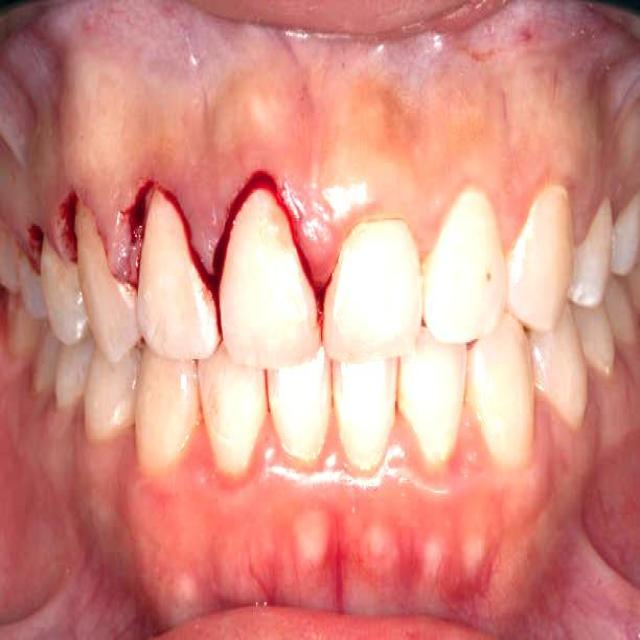bleeding: (160, 169, 246, 301), (114, 179, 150, 296), (49, 184, 91, 268), (262, 162, 302, 242), (306, 256, 343, 319), (23, 218, 48, 276)
